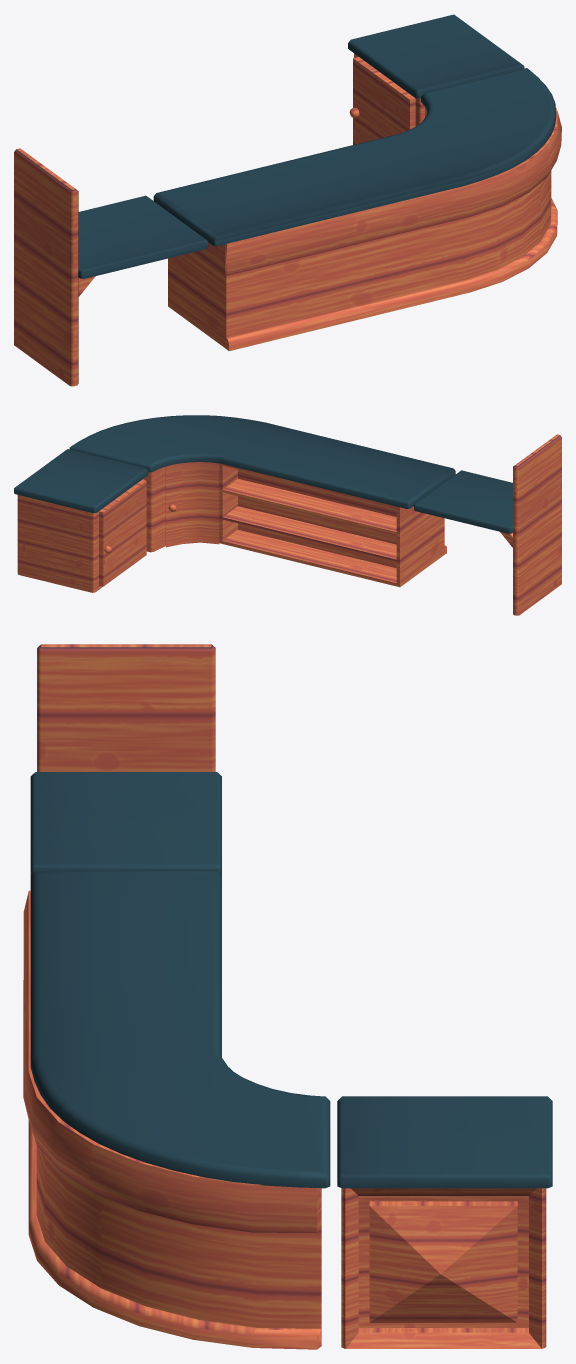
The model's file is TableBar.fbx.
3 views of the same model, one above another, from view 1: azimuth 30°, elevation 25°; view 2: azimuth 150°, elevation 25°; view 3: azimuth 270°, elevation 25° (orthographic). The views are drawn at different scales.
Parts seen in each view (by area): view 1: TableBarCorner, TableBarPassage, TableBarCabin; view 2: TableBarCorner, TableBarCabin, TableBarPassage; view 3: TableBarCorner, TableBarCabin, TableBarPassage.
Part boxes in pixels (x1,y1,x2,y2): TableBarCorner: (153,68,561,350); TableBarPassage: (14,148,208,386); TableBarCabin: (348,14,524,144); TableBarCorner: (69,415,455,587); TableBarCabin: (14,449,148,592); TableBarPassage: (414,434,561,615); TableBarCorner: (23,871,330,1349); TableBarCabin: (337,1096,552,1348); TableBarPassage: (30,644,221,874).
Size of the model in its own units: 4.69 by 1.57 by 2.54.
